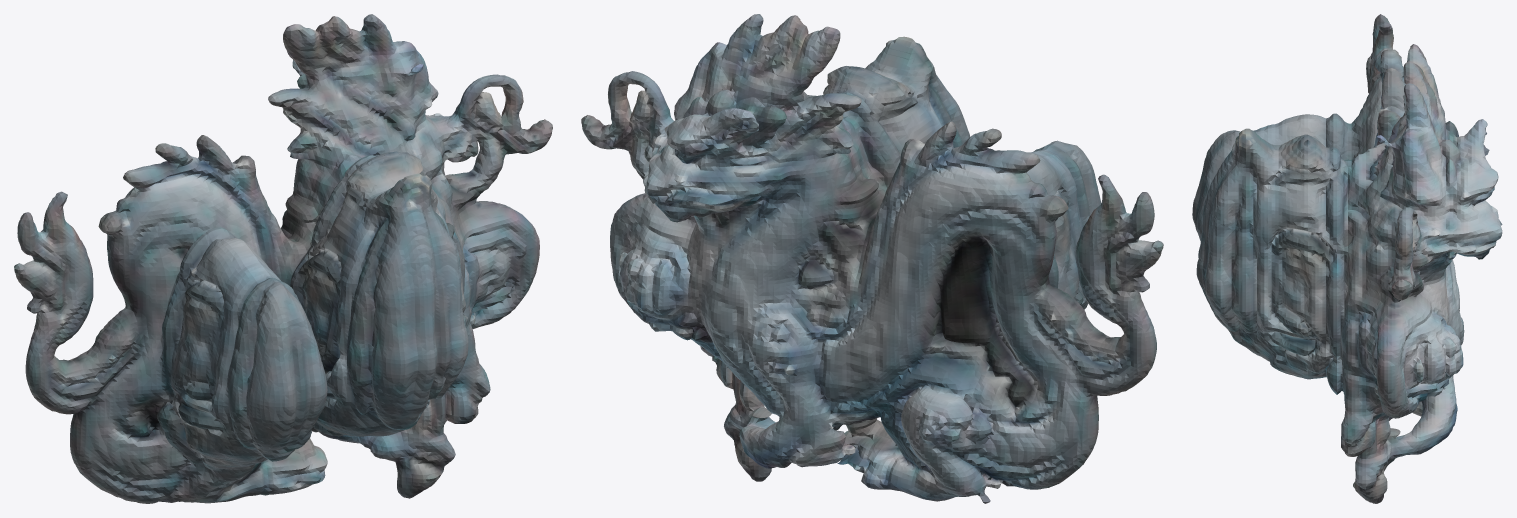
File: yong.glb
The picture shows the model from 3 angles, left to right: view 1: azimuth 30°, elevation 25°; view 2: azimuth 150°, elevation 25°; view 3: azimuth 270°, elevation 25°; orthographic projection. The views are drawn at different scales.
Visible parts, largest first — view 1: world; view 2: world; view 3: world.
Boxes of the visible parts, x1,y1,x2,y2 form: world: [14, 14, 552, 503]; world: [581, 14, 1163, 503]; world: [1192, 14, 1502, 503].
Size of the model in its own units: 1.04 by 0.8678 by 0.582.
